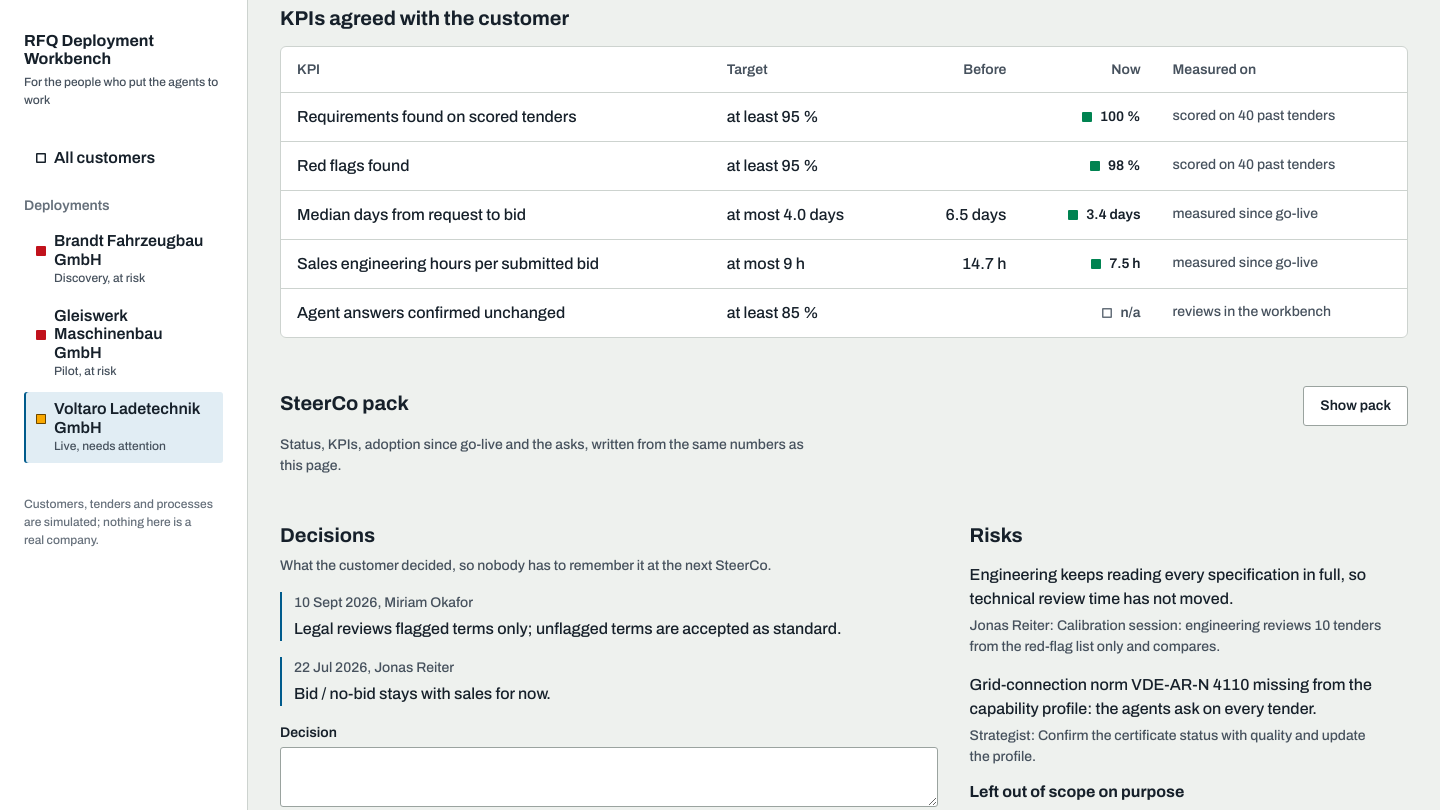
Test: customer overview › opens the SteerCo pack on request
(page scrolled)
Click the button "Show pack" at (1356, 406), box [1303,386,1408,426]
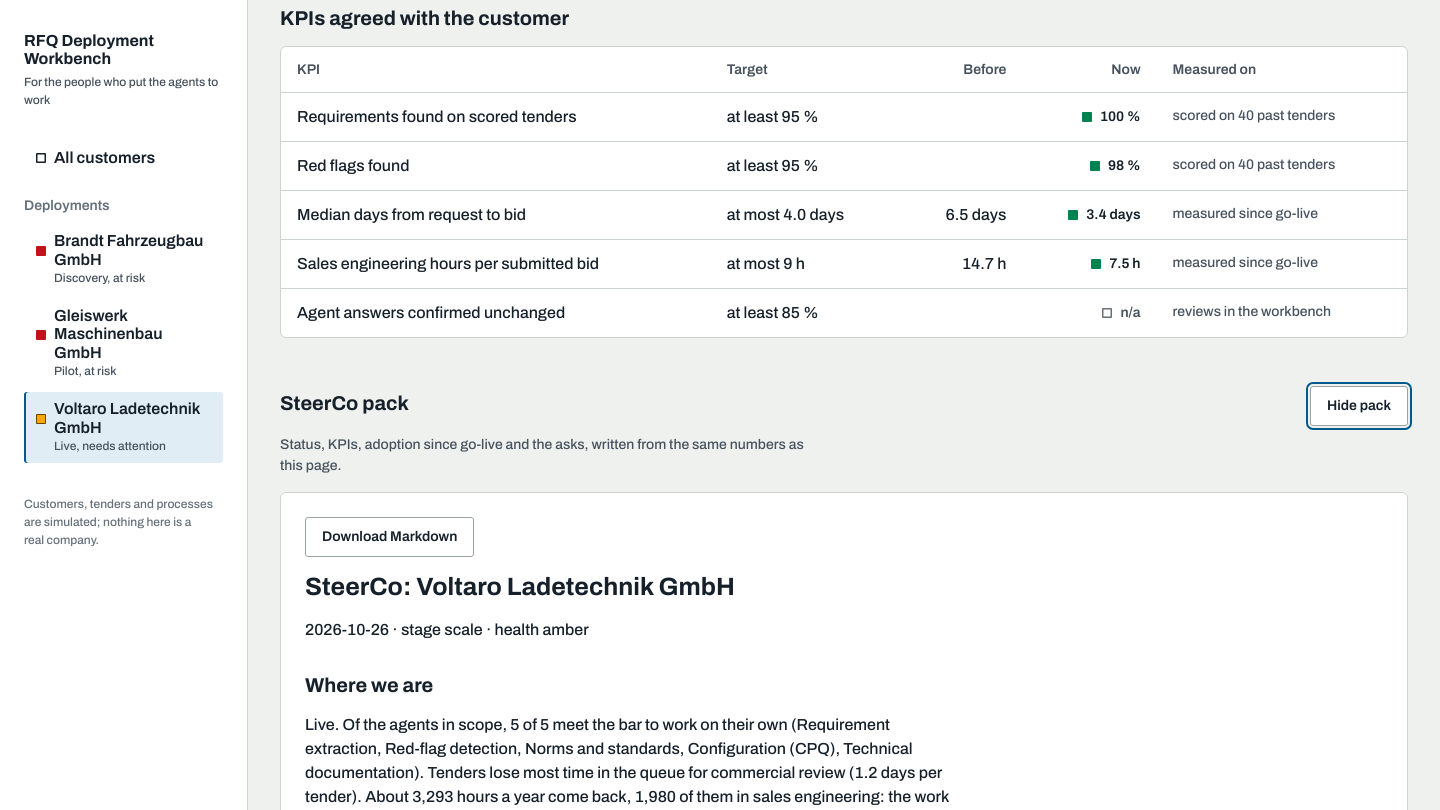
Result: the heading "SteerCo: Voltaro Ladetechnik GmbH" is shown at [305,573,735,600]
